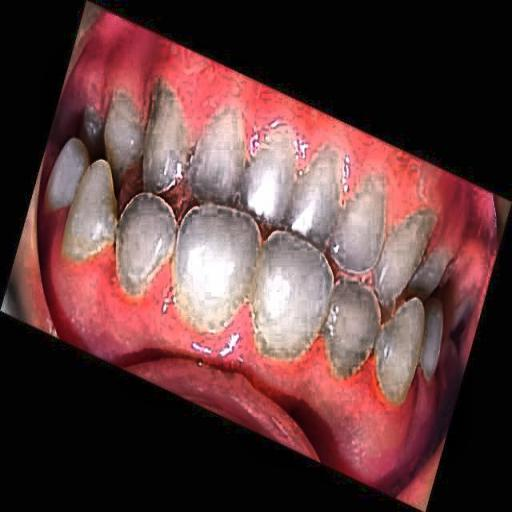Healthy: (86, 70, 443, 384)
